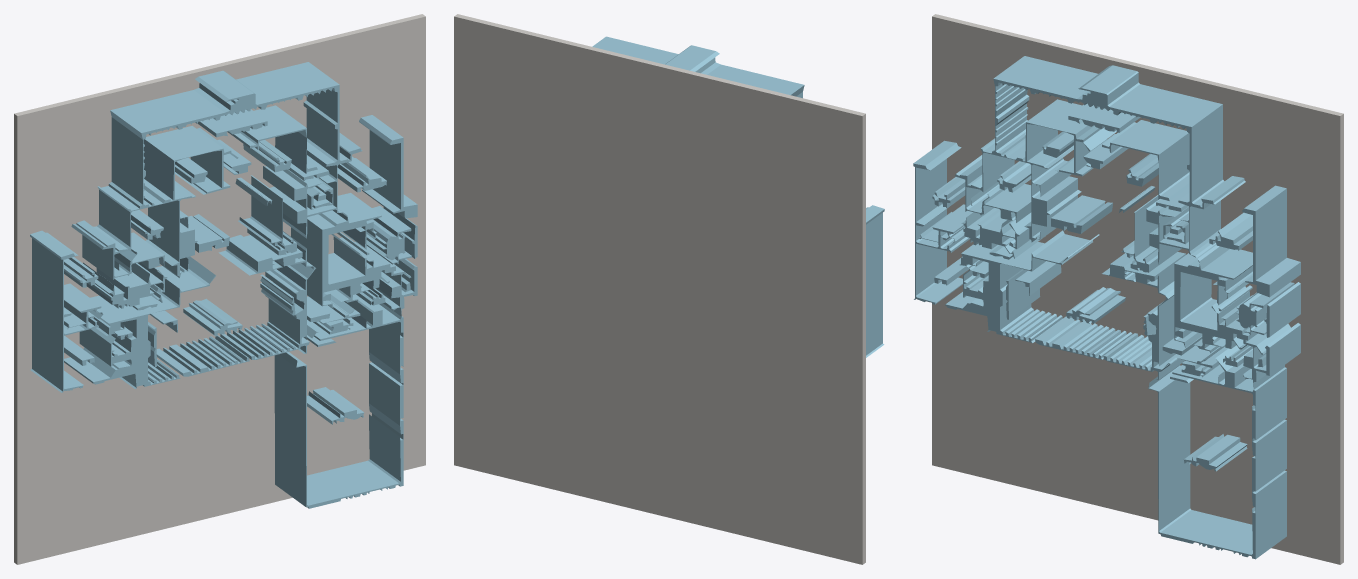
The picture shows the model from 3 angles, left to right: view 1: azimuth 30°, elevation 25°; view 2: azimuth 150°, elevation 25°; view 3: azimuth 330°, elevation 25°; orthographic projection.
Visible parts, largest first — view 1: world; view 2: world; view 3: world.
Boxes of the visible parts, x1,y1,x2,y2 form: world: [14, 14, 425, 564]; world: [454, 14, 884, 564]; world: [913, 14, 1343, 564].
Size of the model in its own units: 10.23 by 10.74 by 1.51.
